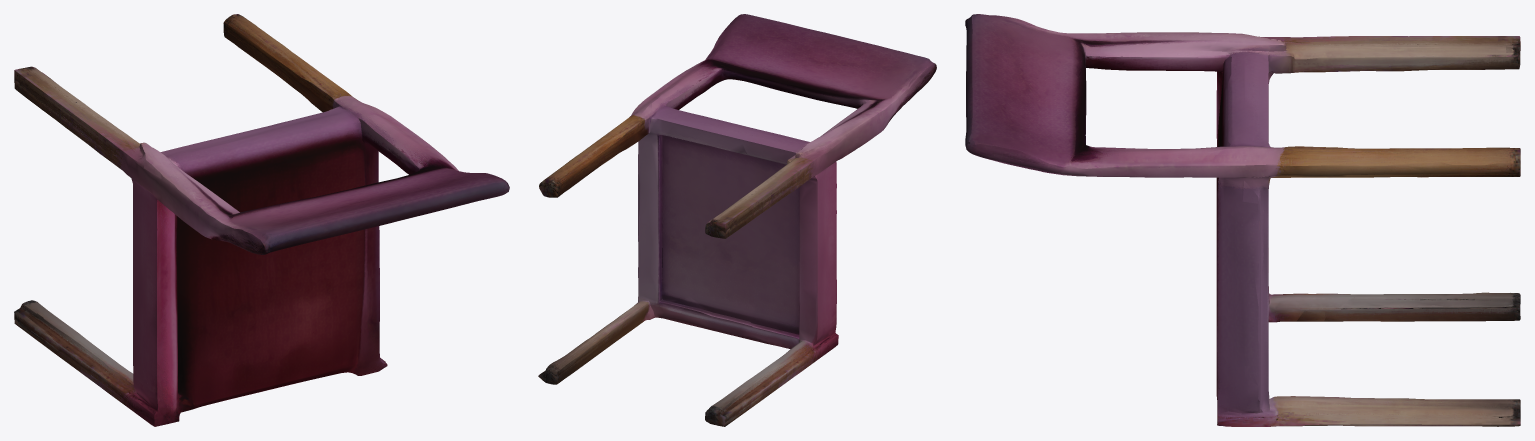
File: out_sim.glb
3 renders of one model, left to right at view 1: azimuth 30°, elevation 25°; view 2: azimuth 150°, elevation 25°; view 3: azimuth 270°, elevation 25°, orthographic. The views are drawn at different scales.
Visible parts, largest first — view 1: world; view 2: world; view 3: world.
Part boxes in pixels (x1=…): world: x1=14, y1=14, x2=509, y2=426; world: x1=538, y1=14, x2=936, y2=426; world: x1=965, y1=14, x2=1520, y2=426.
Size of the model in its own units: 0.5538 by 0.5882 by 1.
Materials: 1 (1 with a texture image).
